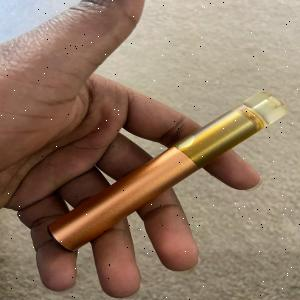Golden-E-Ciggirate: (35, 85, 300, 262)
